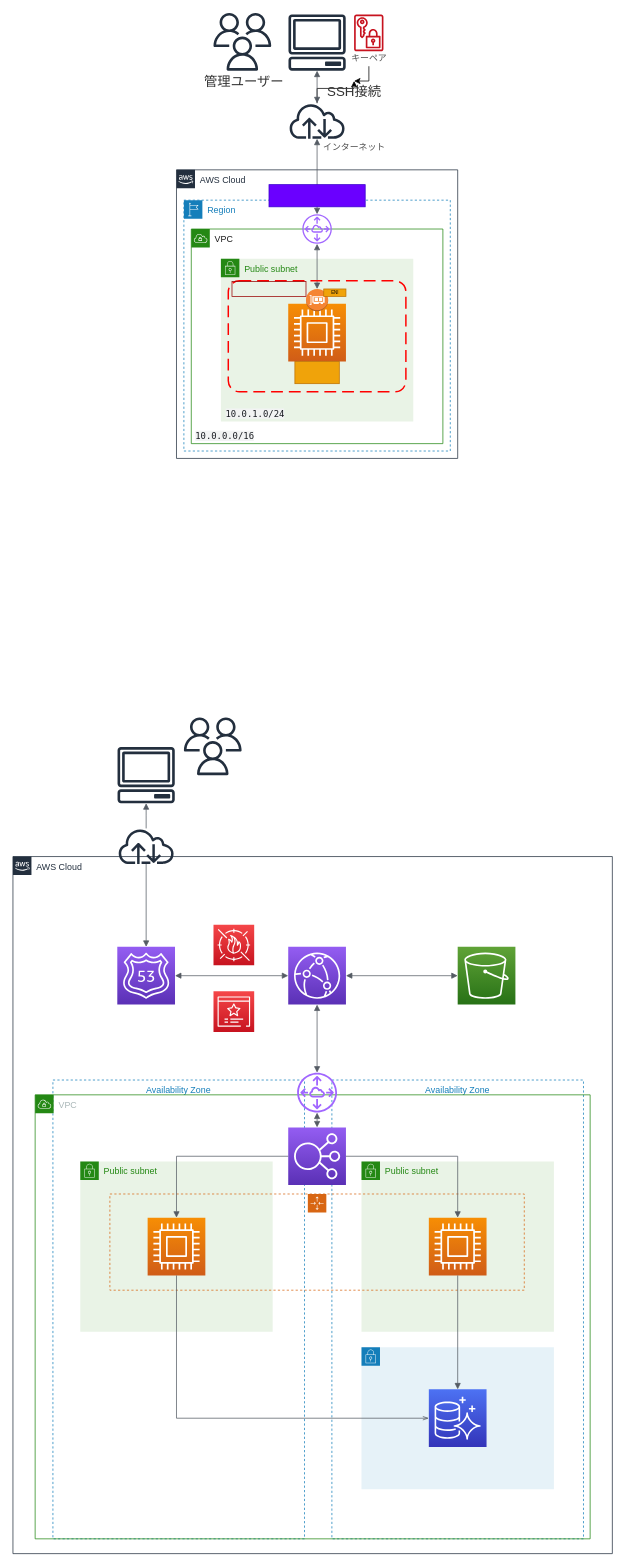
The diagram is 625 pixels wide and 1567 high, and some of its shapes have lost their labels. The box of each missing label's shape, as (x1, y1, x2, y2) in pixels:
Auto Scaling group: (109, 1193, 524, 1290)
EC2: (294, 361, 339, 384)
Private subnet: (361, 1346, 554, 1489)
Security Group: (231, 281, 306, 296)
インターネットゲートウェイ (IGW): (268, 184, 365, 207)
